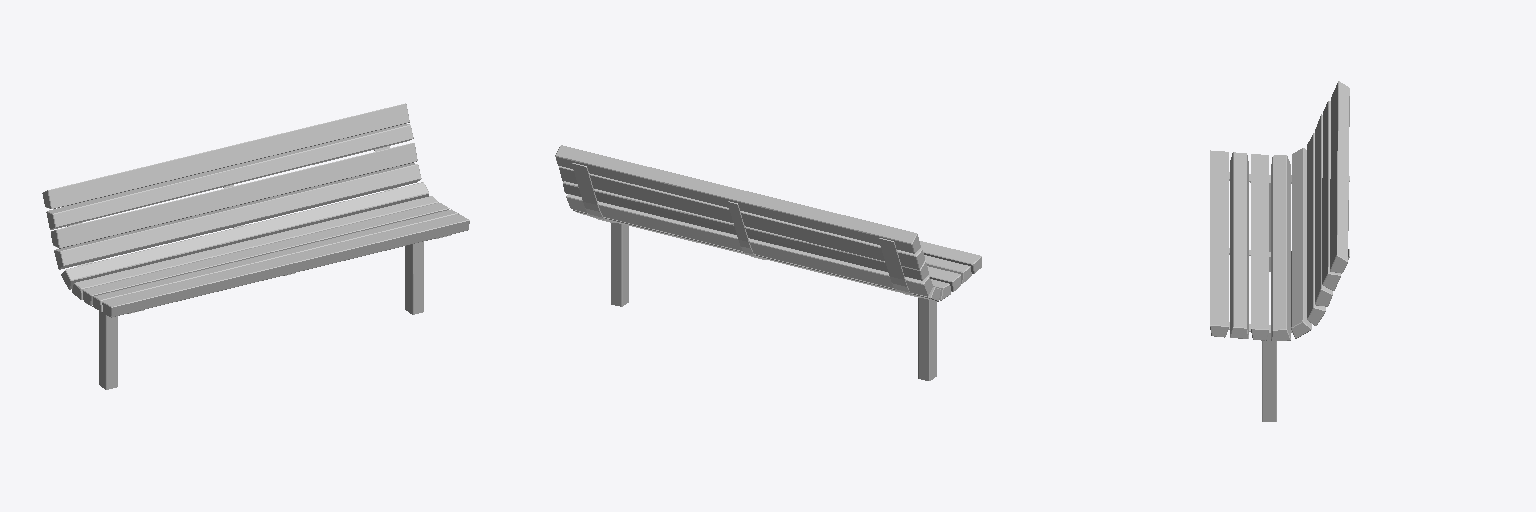
The model's file is bench.obj.
3 views of the same model, side by side, from view 1: azimuth 30°, elevation 25°; view 2: azimuth 150°, elevation 25°; view 3: azimuth 270°, elevation 25° (orthographic).
Parts seen in each view (by area): view 1: Wooden_Bench_Weathered_2; view 2: Wooden_Bench_Weathered_2; view 3: Wooden_Bench_Weathered_2.
Part boxes in pixels (bbox=[...]): Wooden_Bench_Weathered_2: bbox=[42, 103, 469, 389]; Wooden_Bench_Weathered_2: bbox=[555, 145, 981, 380]; Wooden_Bench_Weathered_2: bbox=[1210, 81, 1349, 421].
Size of the model in its own units: 2.15 by 1.01 by 0.7283.